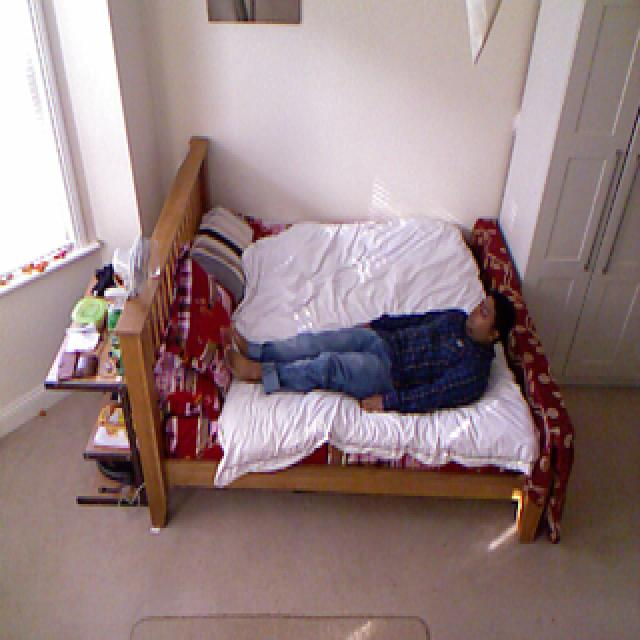lying: (214, 289, 526, 413)
